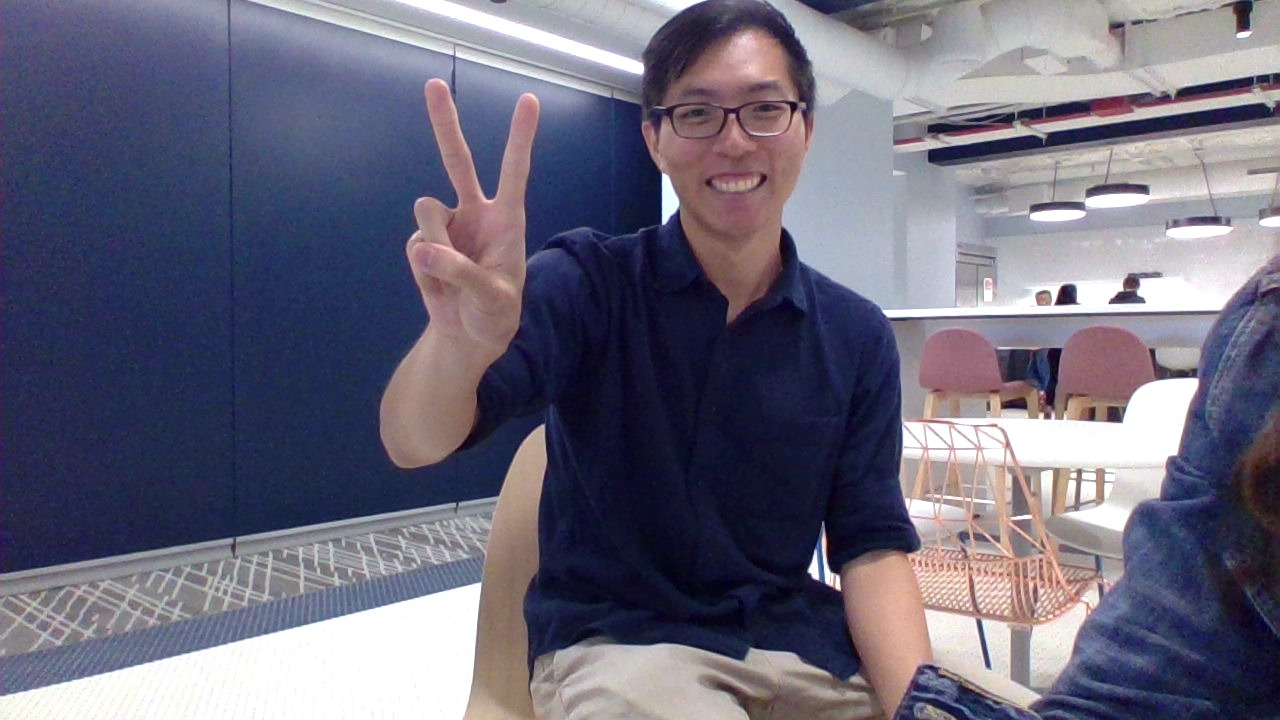v: (389, 65, 553, 369)
